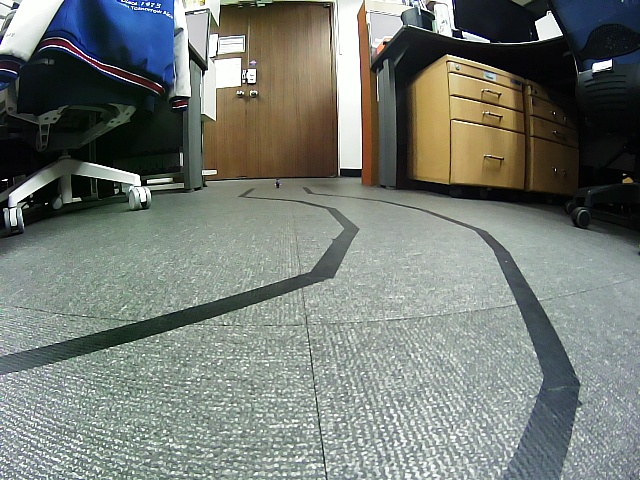person: (273, 178, 281, 188)
